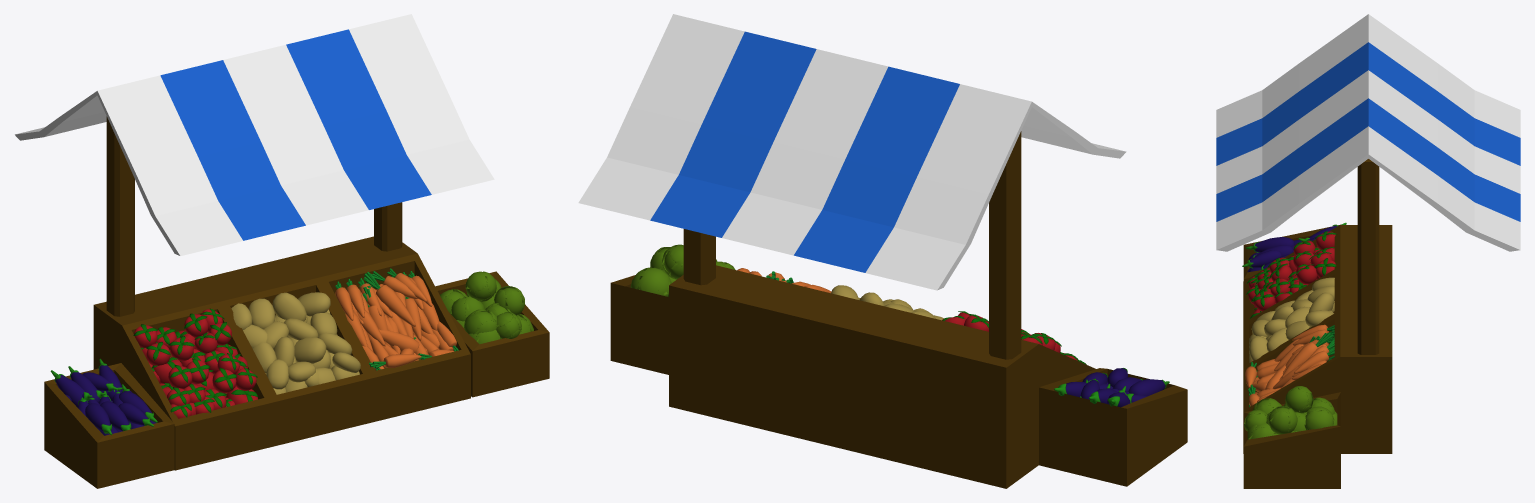
The model's file is Market_BlueTeam.glb.
The picture shows the model from 3 angles, left to right: view 1: azimuth 30°, elevation 25°; view 2: azimuth 150°, elevation 25°; view 3: azimuth 270°, elevation 25°; orthographic projection. The views are drawn at different scales.
Parts seen in each view (by area): view 1: Market_BlueTeam; view 2: Market_BlueTeam; view 3: Market_BlueTeam.
Part boxes in pixels (box(x1,y1,x2,y2)): Market_BlueTeam: box(15, 14, 549, 488); Market_BlueTeam: box(578, 14, 1187, 488); Market_BlueTeam: box(1216, 14, 1520, 488).
Size of the model in its own units: 15.51 by 10.88 by 9.87.
